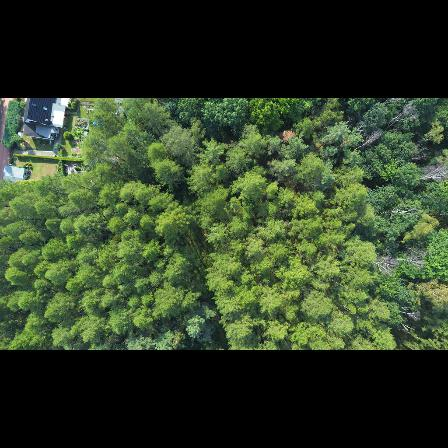Dead: (388, 100, 424, 129), (382, 200, 417, 221), (416, 164, 448, 186), (354, 130, 382, 153), (402, 248, 429, 270), (372, 256, 397, 277), (397, 308, 423, 321)
